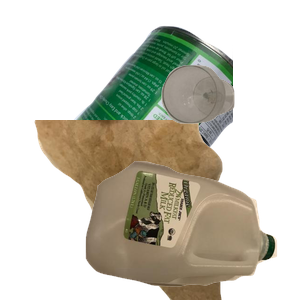glass: (159, 63, 300, 179)
metal: (60, 23, 300, 203)
plastic: (83, 159, 300, 300)
trash: (32, 120, 248, 300)
